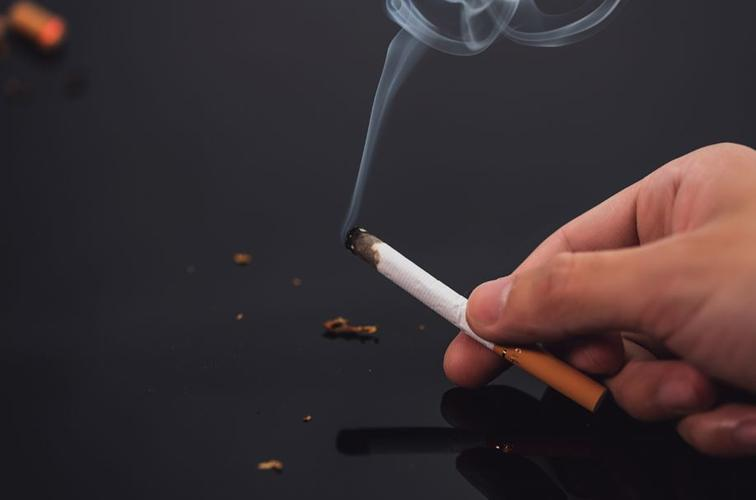smoke: (344, 226, 609, 414)
